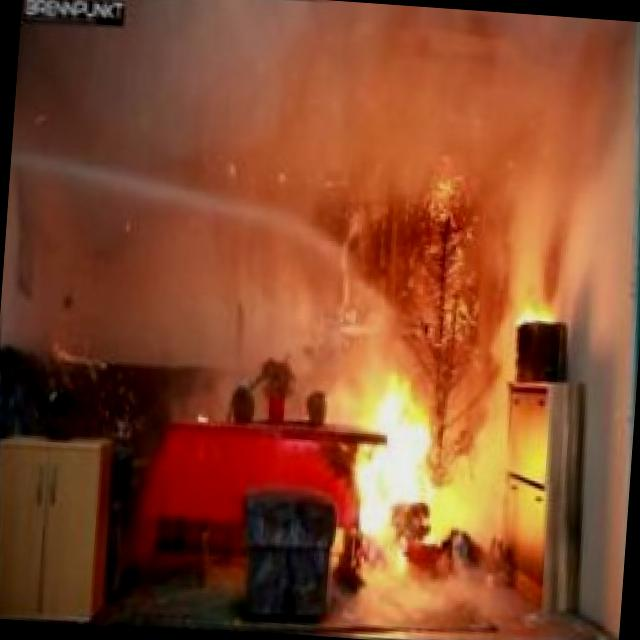fire: (334, 366, 483, 535)
